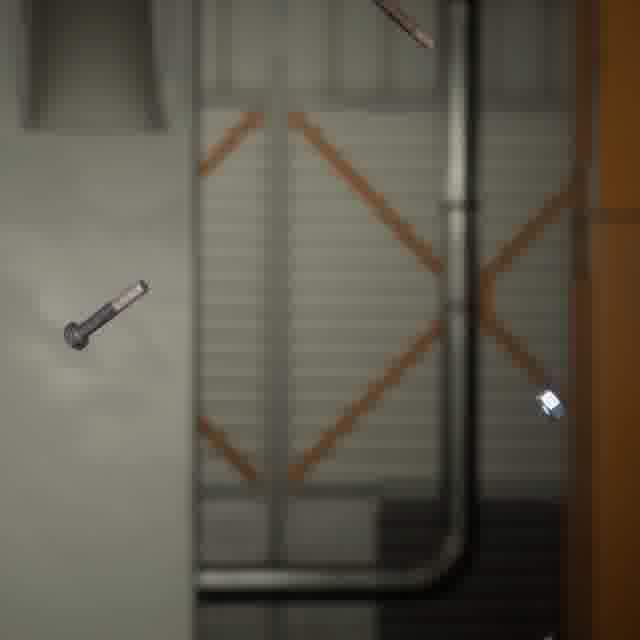bolt: (58, 275, 152, 354), (359, 0, 438, 54)
nut: (531, 384, 569, 424)
